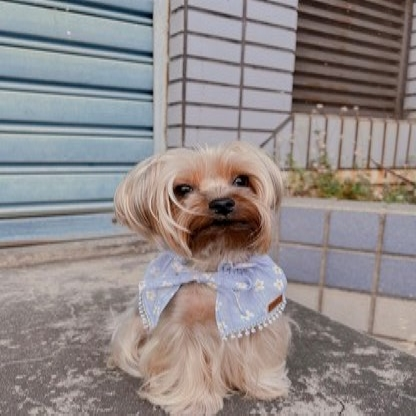yorkshire: (106, 139, 292, 413)
